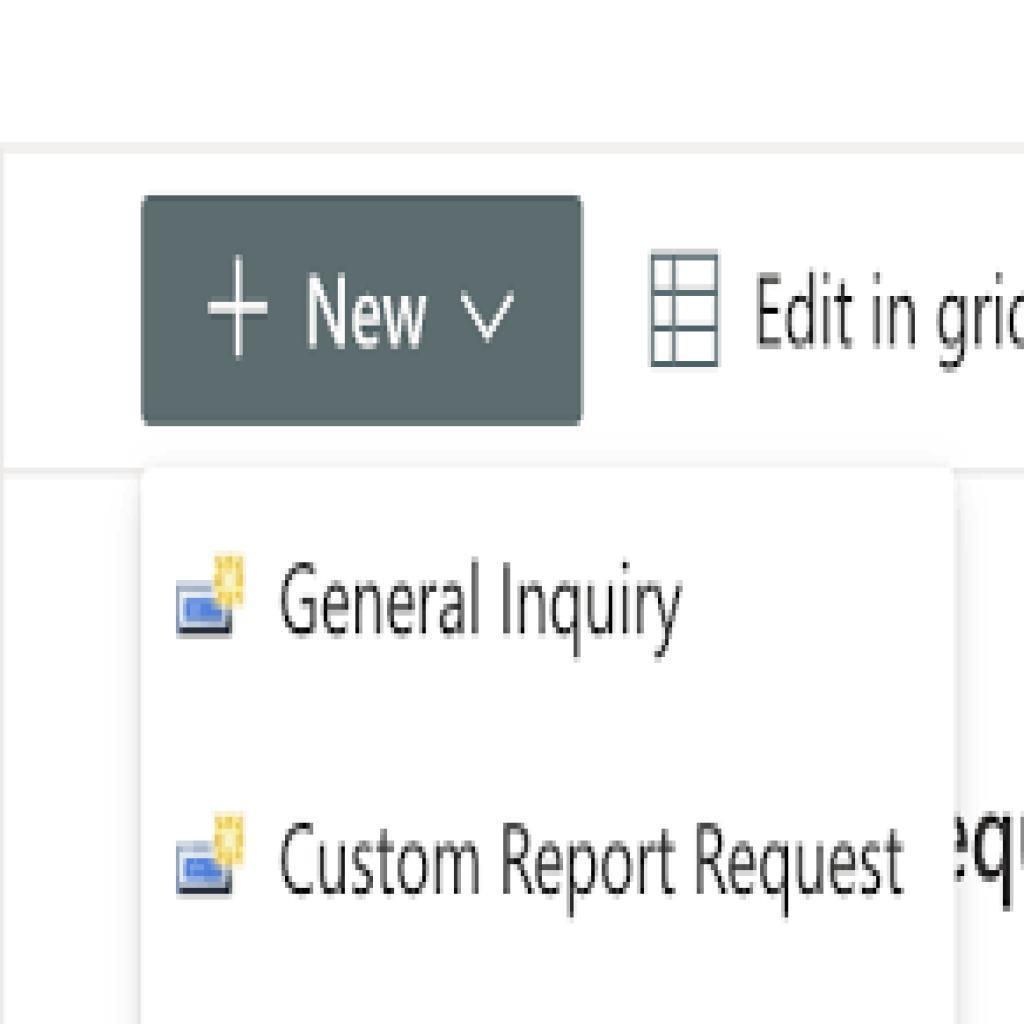dropdown: (143, 199, 585, 426)
